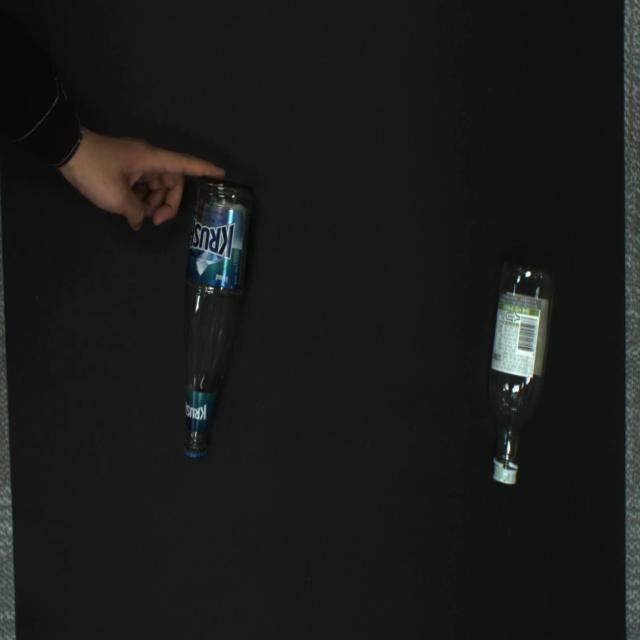beer-bottle: (185, 178, 254, 457)
soju-bottle: (488, 262, 554, 484)
